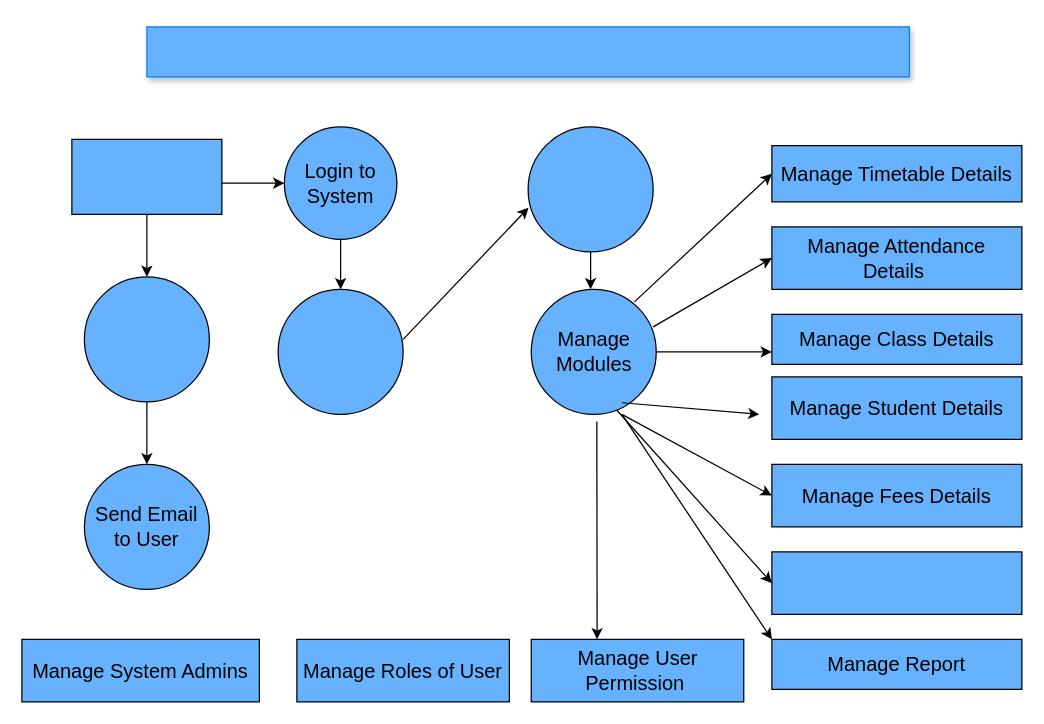
Some shapes in this 1044 by 724 pixel diagram are drawn without their labels. Each missing label, with the centre of its shape:
"Admin" goes at (146,176).
"C heck Credentials" goes at (340,351).
"Check Roles of Access" goes at (590,189).
"Forgot Password" goes at (146,339).
"Manage Teacher Profiles" goes at (896,582).
"Student Information System" goes at (529,53).
